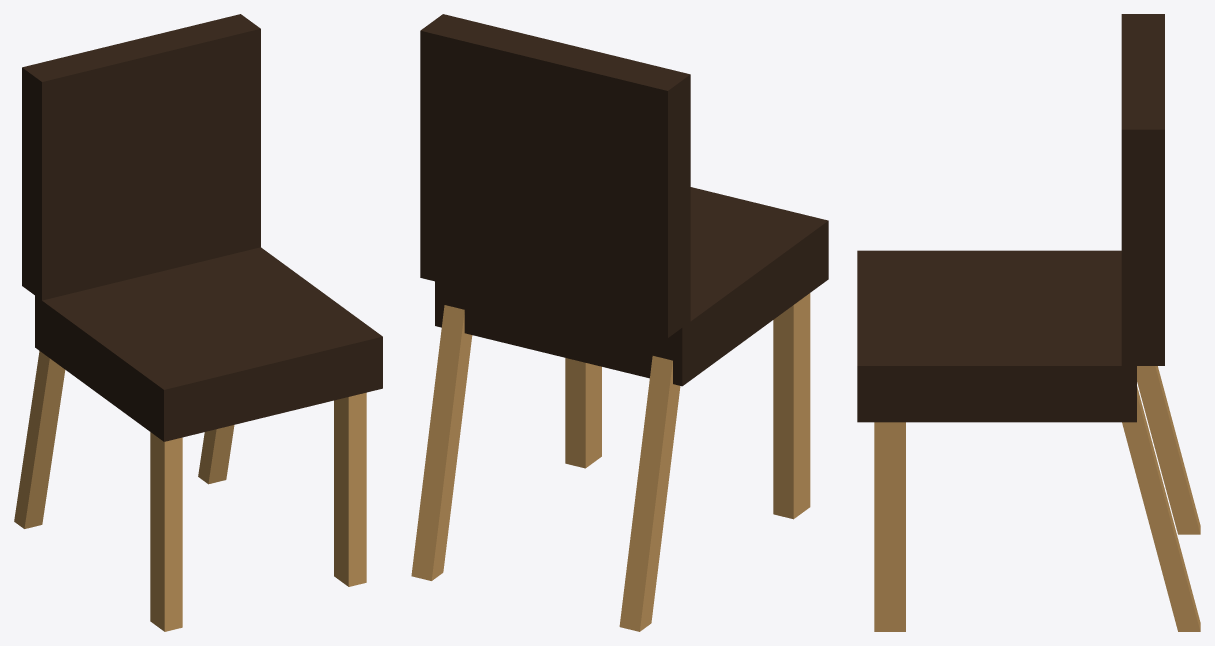
3 renders of one model, left to right at view 1: azimuth 30°, elevation 25°; view 2: azimuth 150°, elevation 25°; view 3: azimuth 270°, elevation 25°, orthographic. The views are drawn at different scales.
Visible parts, largest first — view 1: Back, Seat, FrontLegs, BackLegs; view 2: Back, Seat, BackLegs, FrontLegs; view 3: Seat, Back, BackLegs, FrontLegs.
Boxes of the visible parts, x1,y1,x2,y2 form: Back: (22, 14, 260, 300); Seat: (35, 247, 382, 441); FrontLegs: (150, 392, 366, 631); BackLegs: (14, 351, 234, 528); Back: (420, 14, 690, 337); Seat: (435, 187, 828, 386); BackLegs: (411, 305, 680, 631); FrontLegs: (565, 293, 810, 519); Seat: (857, 250, 1136, 422); Back: (1121, 14, 1164, 365); BackLegs: (1122, 366, 1200, 631); FrontLegs: (874, 422, 905, 631).
Size of the model in its own units: 0.44 by 0.9 by 0.552.
